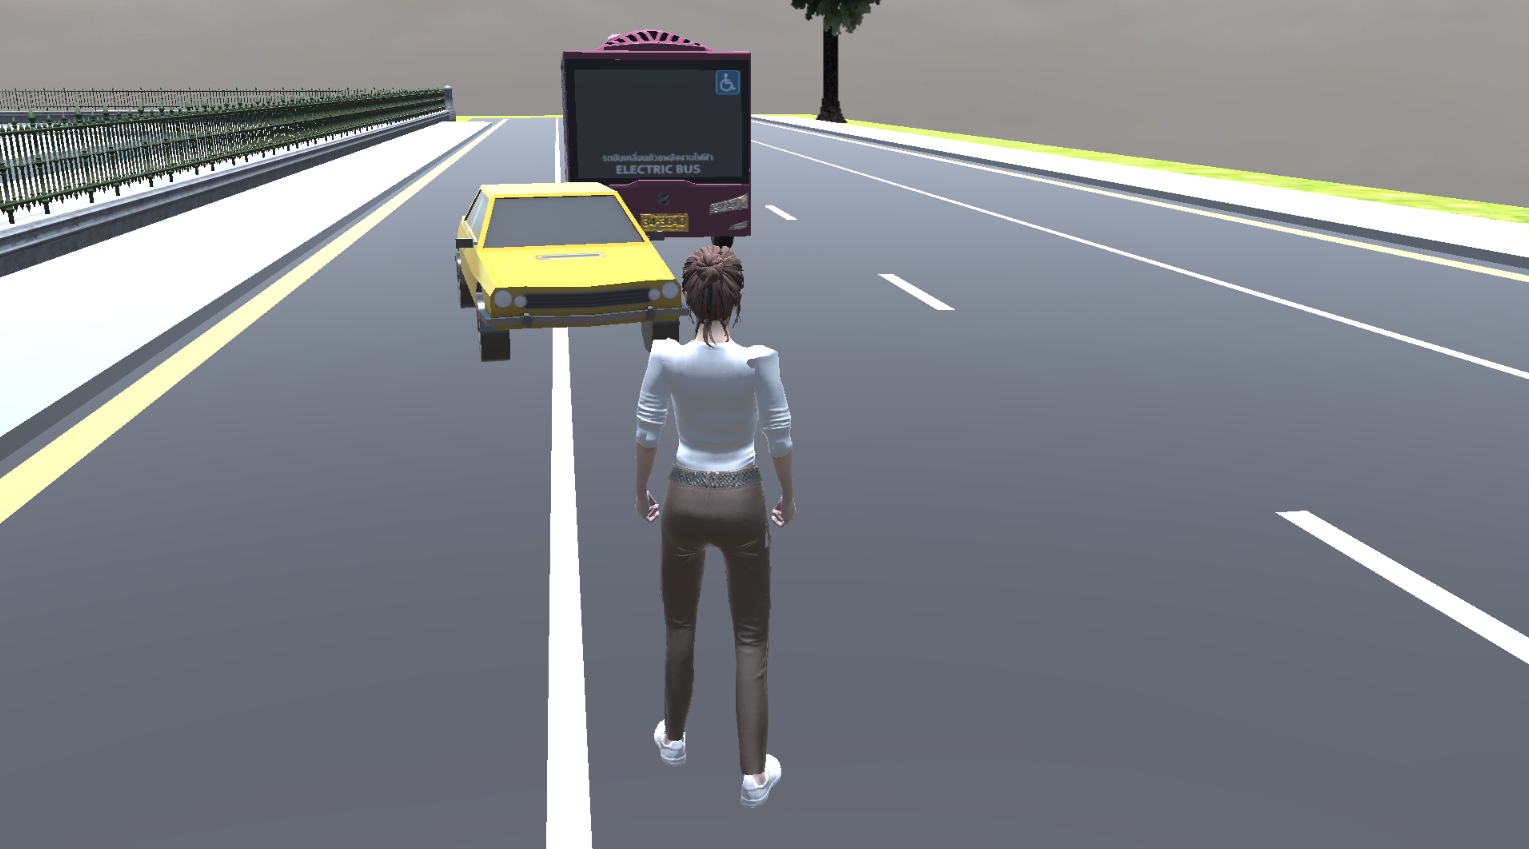pedestrian: (621, 232, 808, 806)
